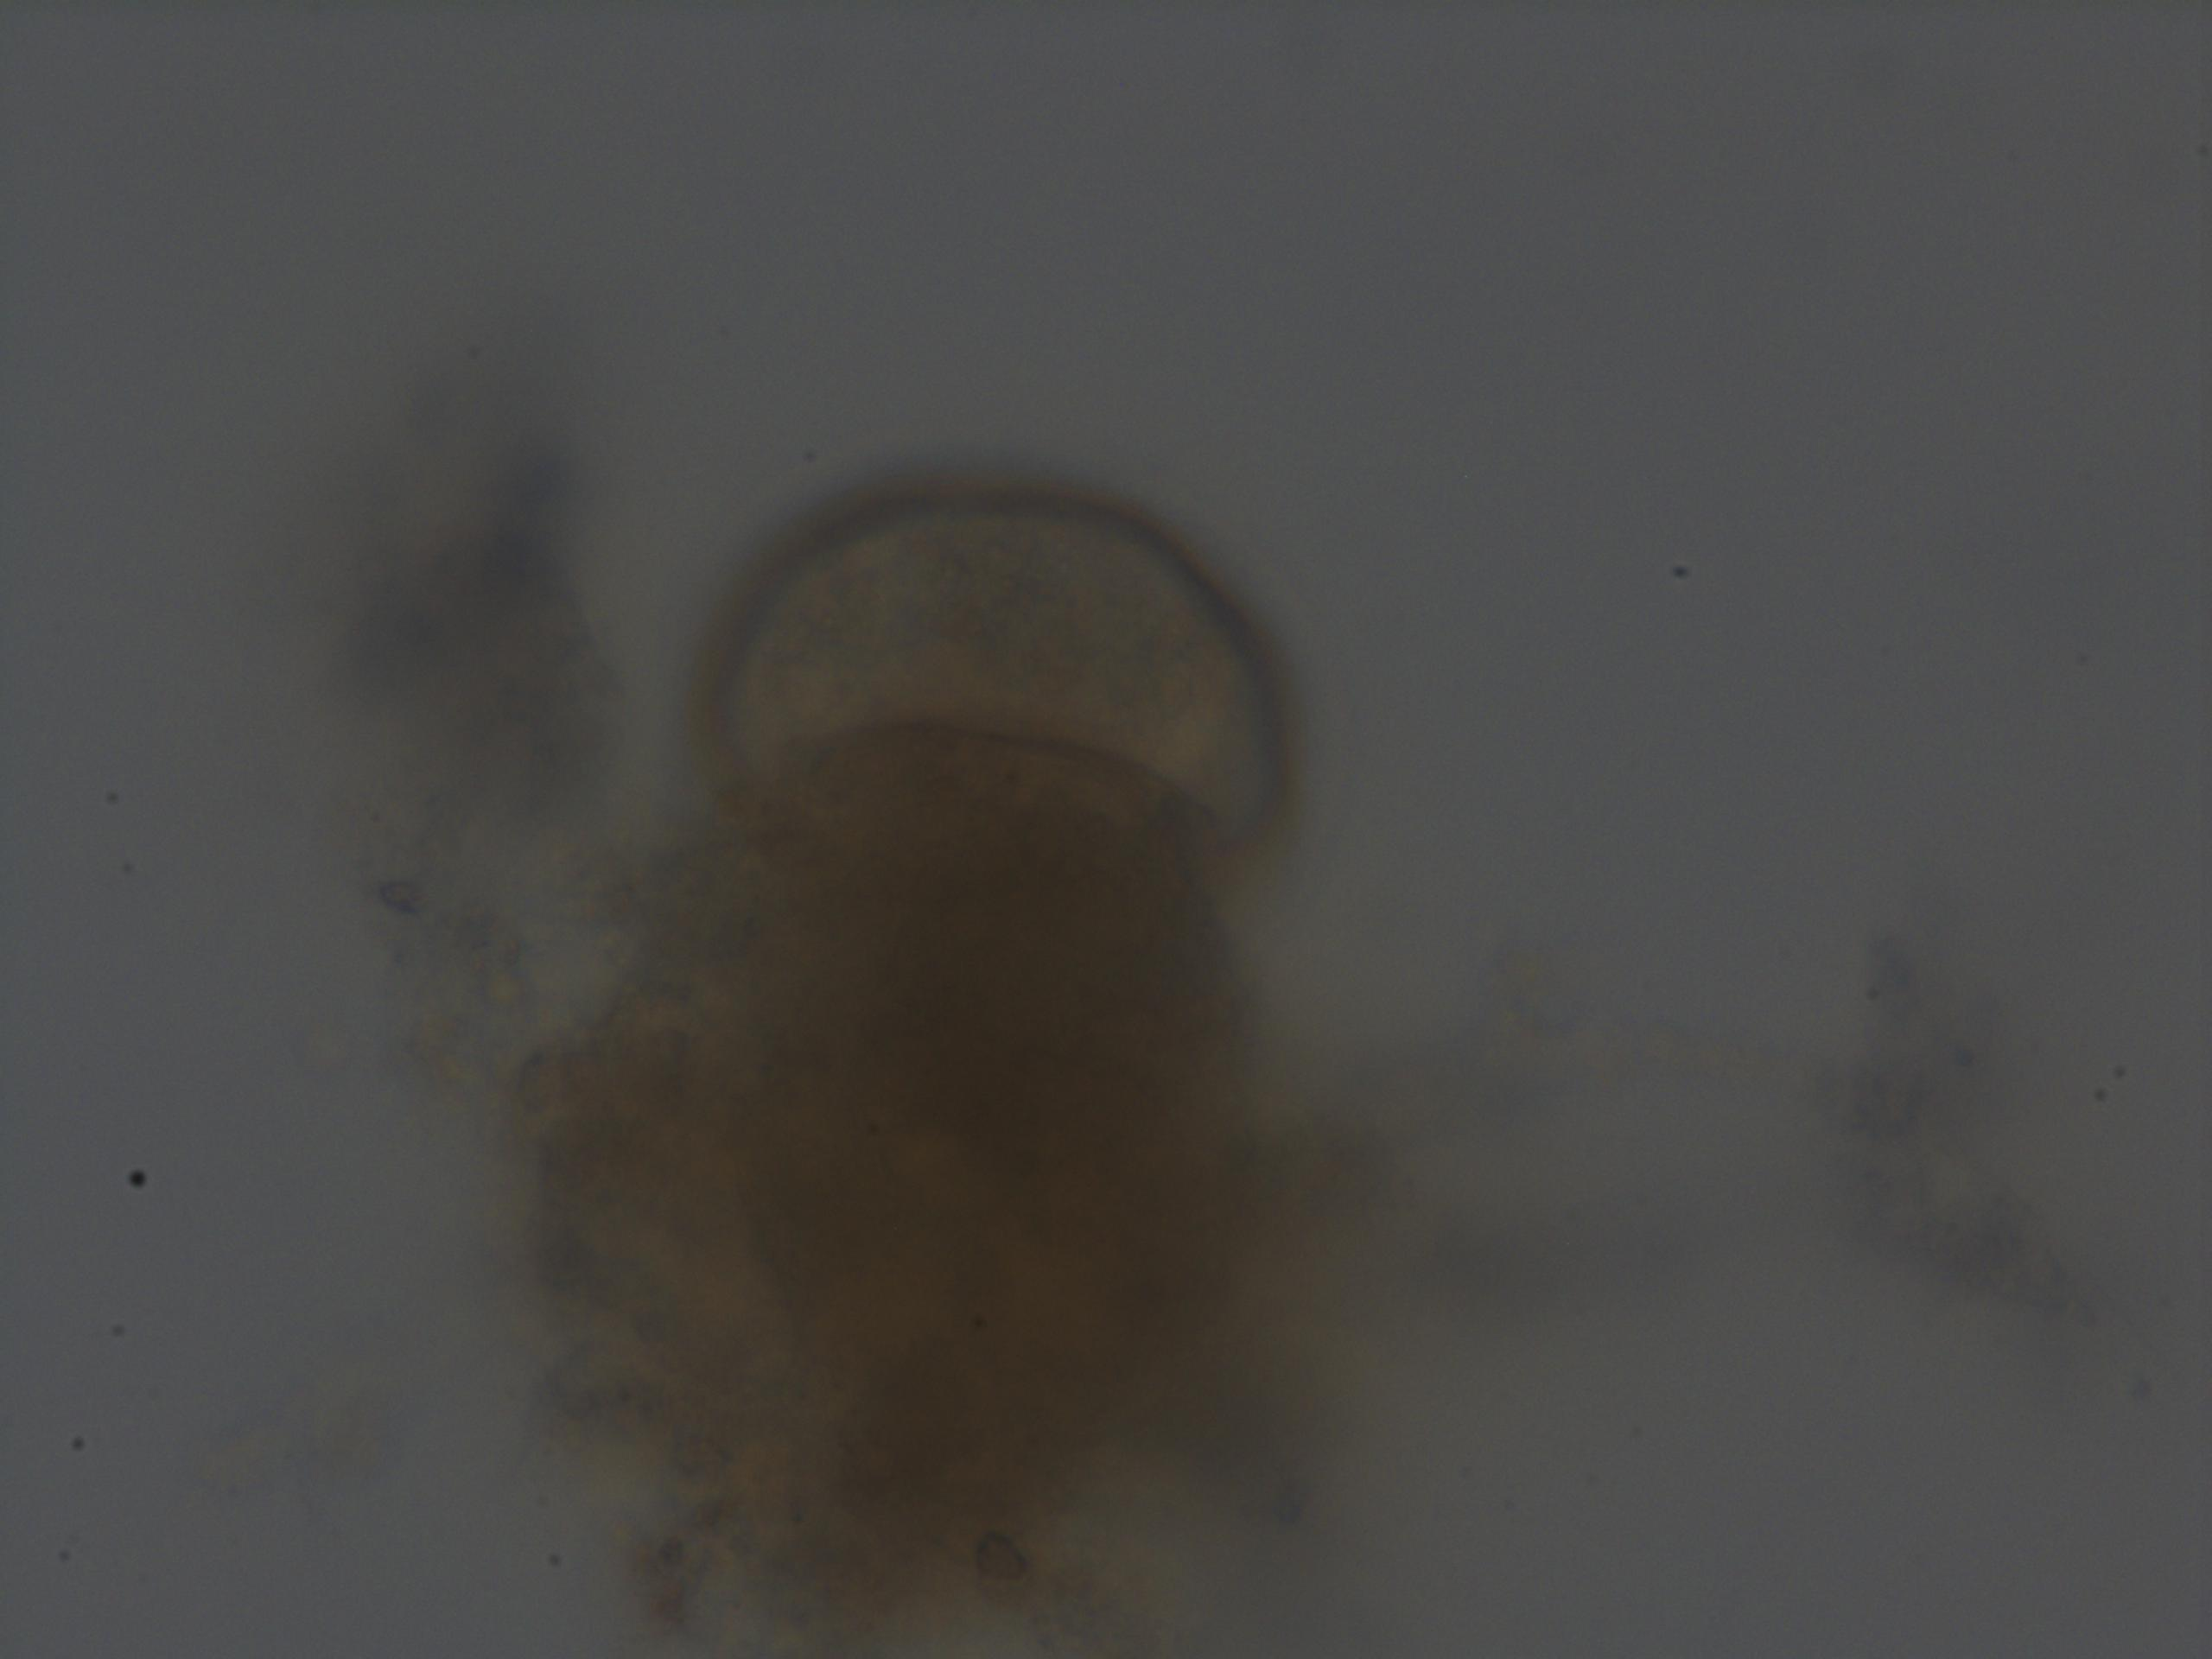protozoa: (690, 450, 1310, 850)
spherical_floc: (509, 763, 1334, 1626)
